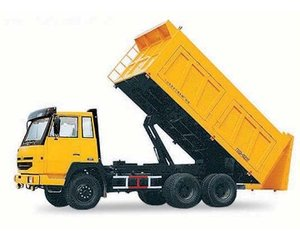truck: (14, 19, 289, 211)
